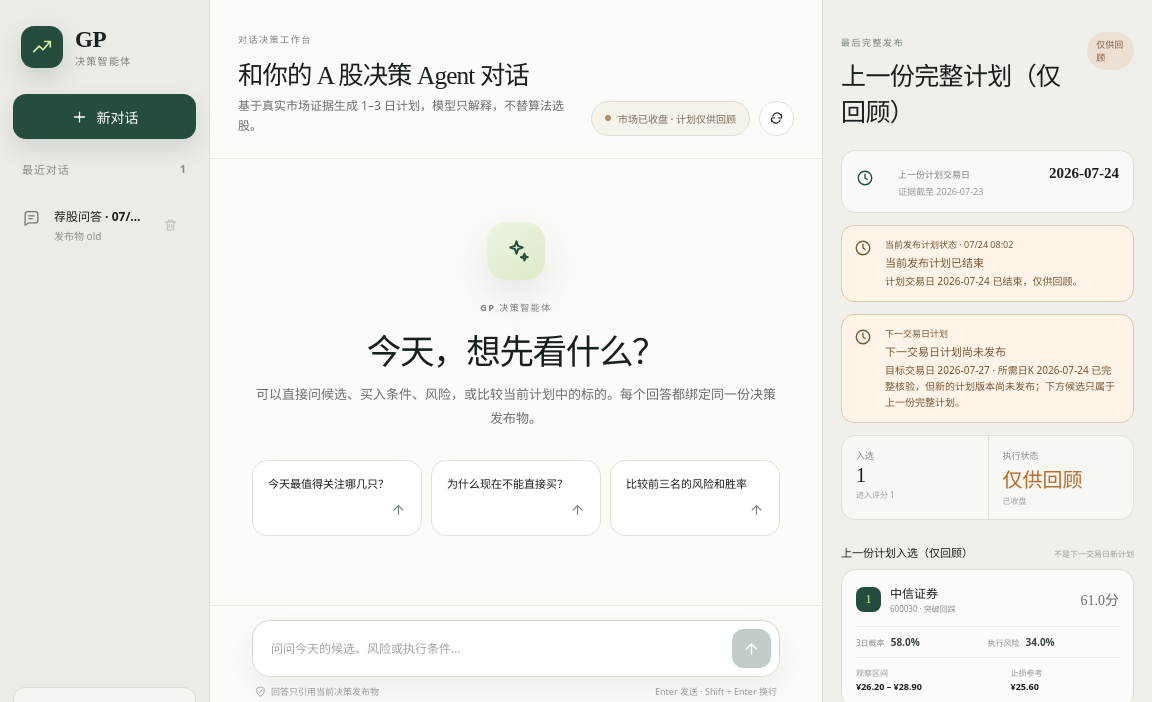
it: GP chat workspace › hides the current brief while viewing a conversation bound to an older publication
The width and height of the screenshot is (1152, 702).
Expected: the text "中信证券" is shown, [890,585,938,602]
What coordinates should you click on to do the following:
click the button "荐股问答 · 07/22 10:01 发布物 old"
I would click on:
 (84, 225)
Its box is [13,197,154,253].
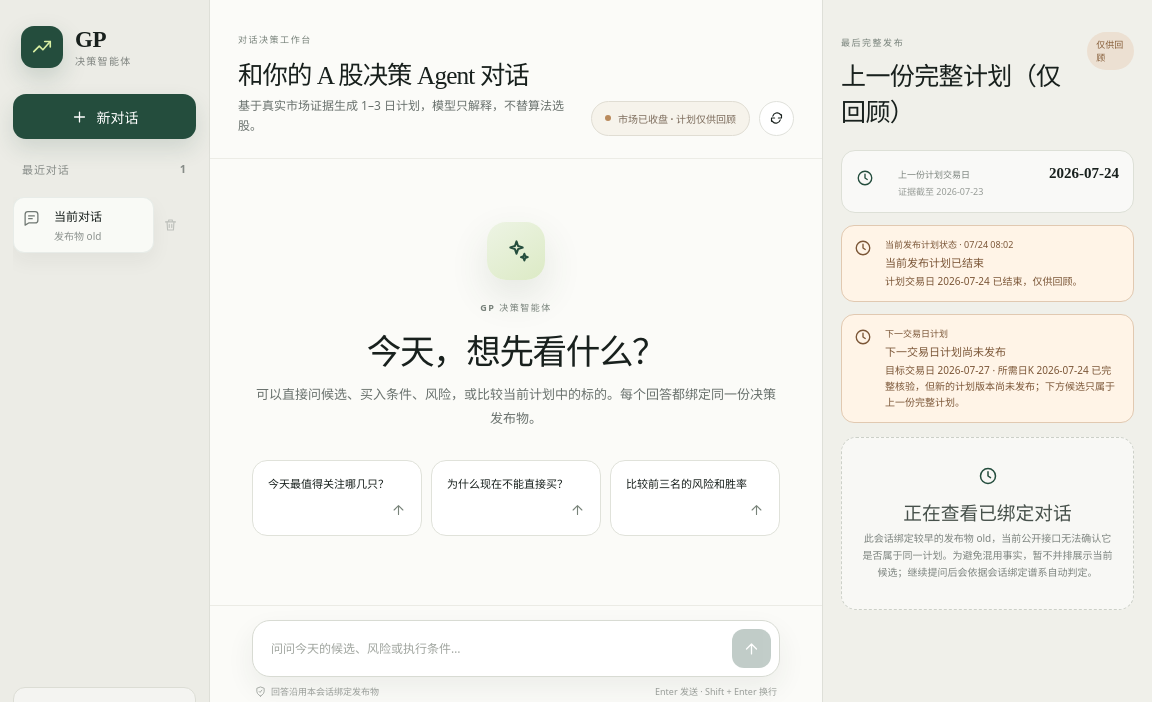
Result: the heading "正在查看已绑定对话" is shown at [903,498,1072,525]
Result: the text "中信证券" is gone
